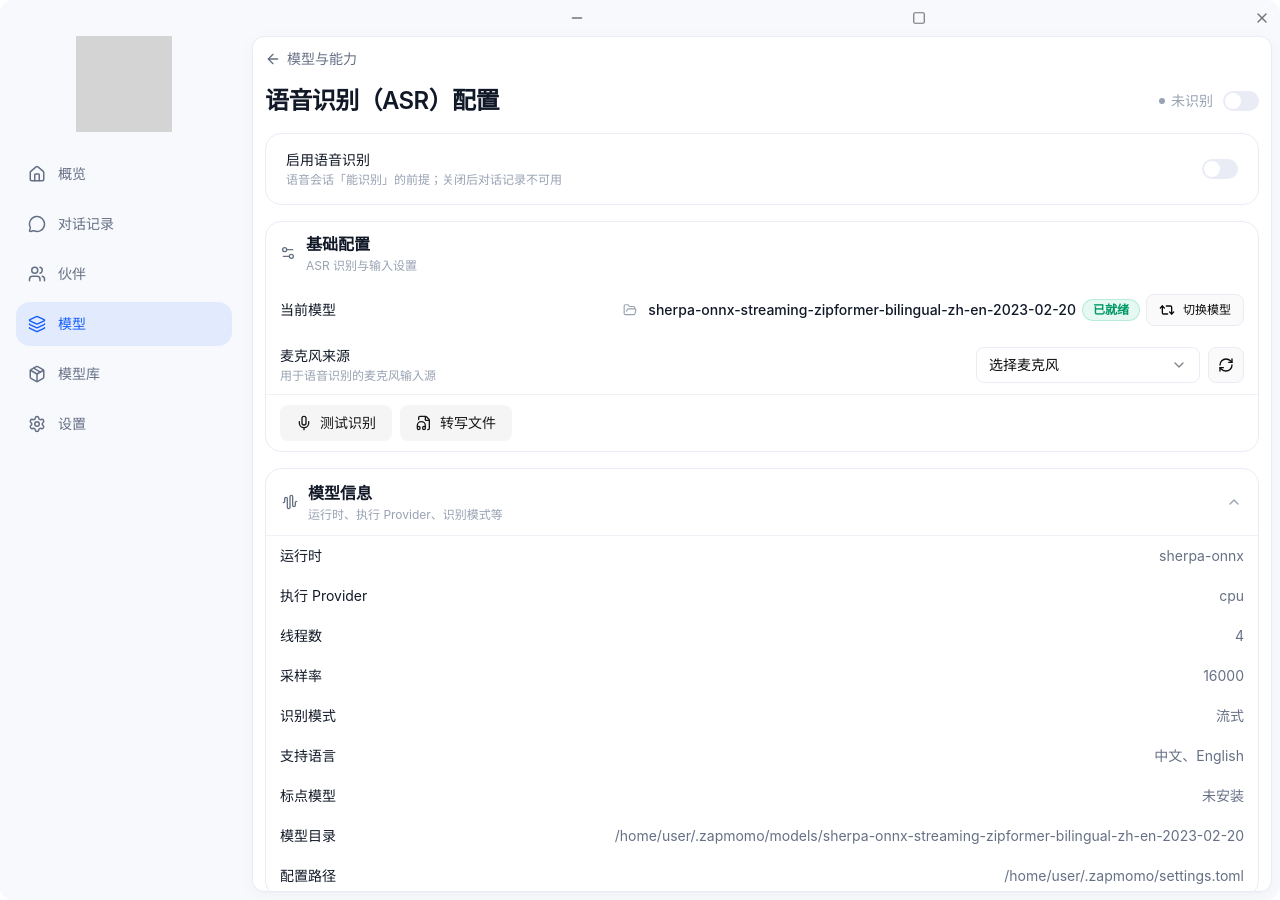
AsrPage（语音识别配置） › 测试对话框：打开显示标题与关闭提示
The image size is (1280, 900).
What coordinates should you click on to do the following:
click the button "测试识别"
I would click on:
 (336, 423)
Its box is [280, 405, 392, 441].
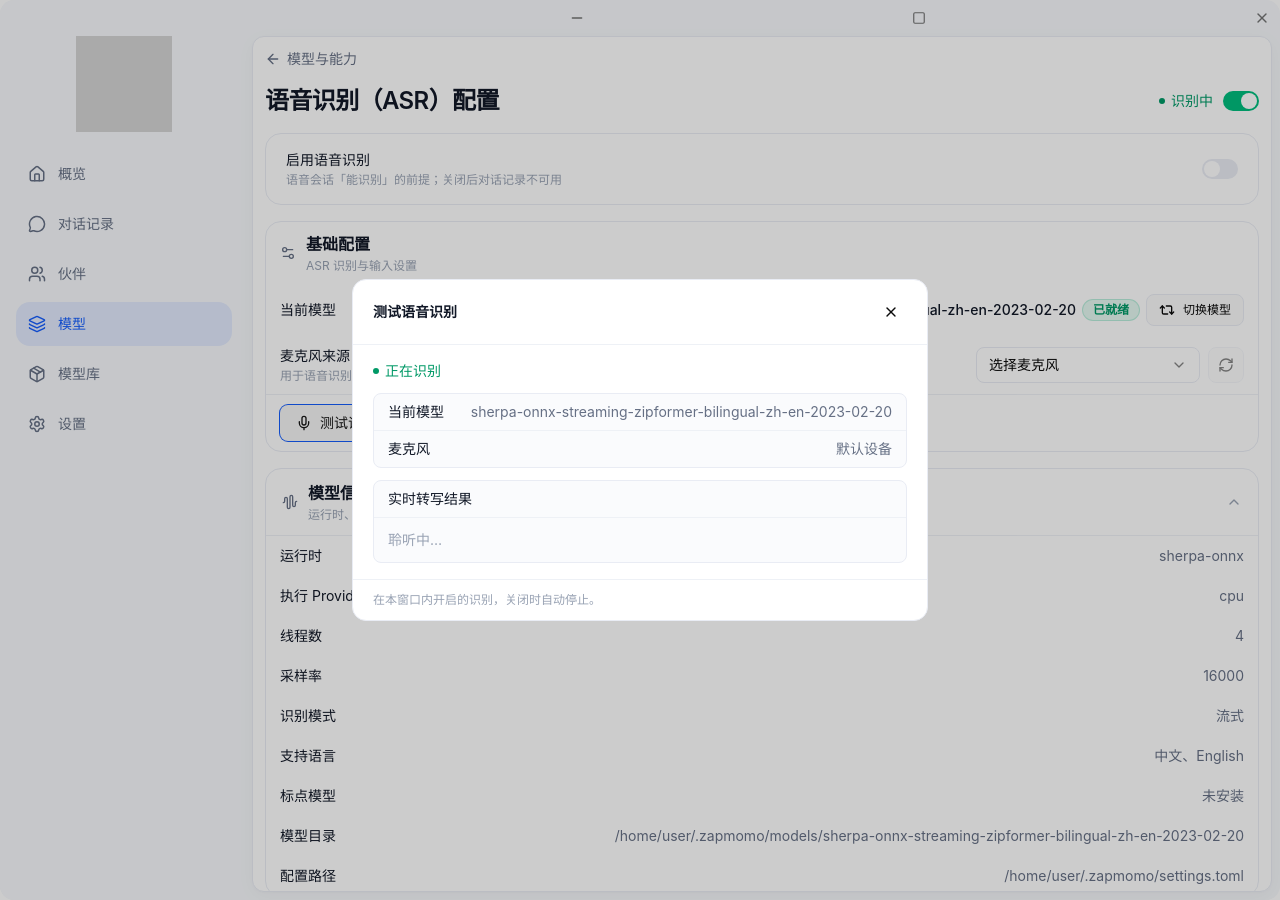
Now the dialog is shown
Now the heading "测试语音识别" is shown, box [373, 302, 457, 322]
Now the text "在本窗口内开启的识别，关闭时自动停止。" is shown, box [373, 592, 601, 607]
